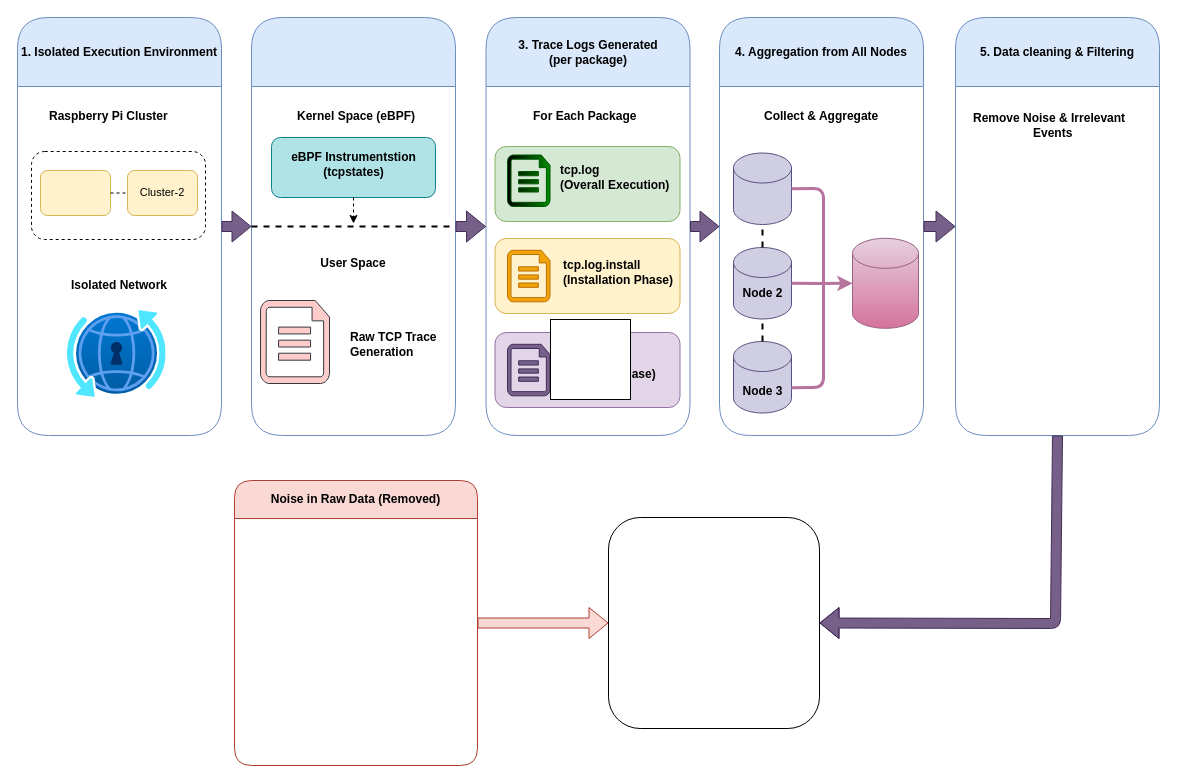
This 1177x783 diagram has some shape labels left out. The box of each missing label's shape, as (x1, y1, x2, y2) in pixels:
2. TCP Trace Collection (eBPF-bases): (250, 16, 456, 436)
Cluster-1: (40, 170, 110, 216)
Node 1: (732, 152, 792, 224)
Unified Raw Dataset: (852, 237, 918, 328)
